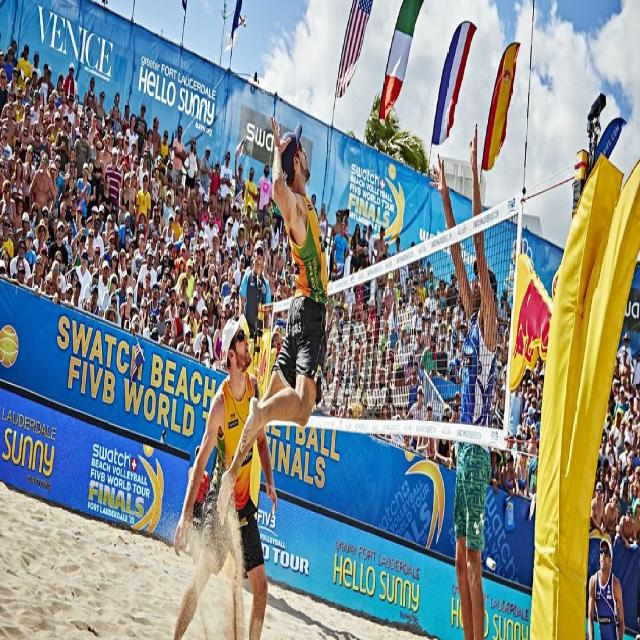body: (213, 107, 328, 530), (0, 232, 313, 375), (426, 119, 499, 639), (168, 311, 281, 639), (314, 333, 510, 481), (86, 116, 288, 233), (512, 340, 640, 518), (314, 239, 502, 334), (20, 65, 88, 232), (586, 531, 625, 639), (237, 238, 274, 341), (28, 152, 58, 218), (103, 145, 122, 229), (405, 384, 428, 453), (444, 270, 460, 353), (373, 240, 390, 310), (182, 137, 200, 203), (0, 178, 18, 244), (588, 480, 608, 538), (74, 162, 91, 230), (47, 219, 69, 271), (72, 120, 91, 178), (433, 412, 452, 469), (256, 162, 274, 222), (514, 446, 534, 500), (371, 225, 388, 288), (328, 208, 342, 282), (212, 308, 228, 370), (171, 123, 186, 187), (330, 222, 350, 268), (15, 41, 32, 92), (618, 504, 636, 552), (500, 453, 518, 501), (508, 383, 523, 440), (133, 100, 148, 156), (218, 150, 233, 206), (615, 332, 634, 375), (5, 136, 22, 184), (61, 61, 78, 108), (0, 120, 13, 180), (488, 442, 502, 496), (199, 143, 212, 201), (124, 111, 140, 158), (243, 165, 258, 215), (10, 156, 26, 202), (604, 489, 620, 534), (356, 224, 370, 273), (349, 223, 362, 275), (618, 348, 632, 392), (234, 151, 246, 201), (628, 496, 640, 546), (82, 77, 98, 114), (497, 294, 508, 346), (2, 44, 16, 83), (31, 50, 44, 92), (317, 202, 328, 248), (6, 66, 19, 102), (364, 223, 375, 265), (151, 116, 162, 158), (0, 66, 9, 116), (20, 76, 34, 108), (4, 40, 19, 69), (109, 91, 122, 124), (209, 161, 221, 196), (0, 156, 7, 215), (424, 266, 436, 300), (160, 130, 170, 170), (97, 90, 107, 129), (416, 270, 426, 309), (122, 102, 132, 137), (308, 189, 319, 219), (502, 288, 512, 315), (390, 236, 402, 256), (0, 51, 6, 70), (43, 62, 49, 76)
